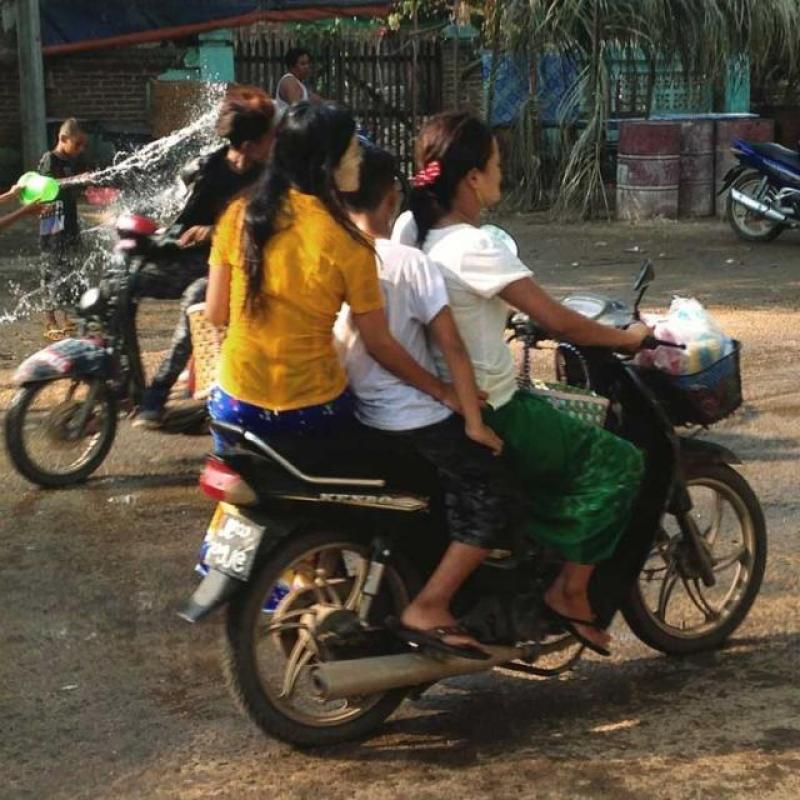nohelmet: (387, 108, 513, 224), (279, 89, 369, 213)
